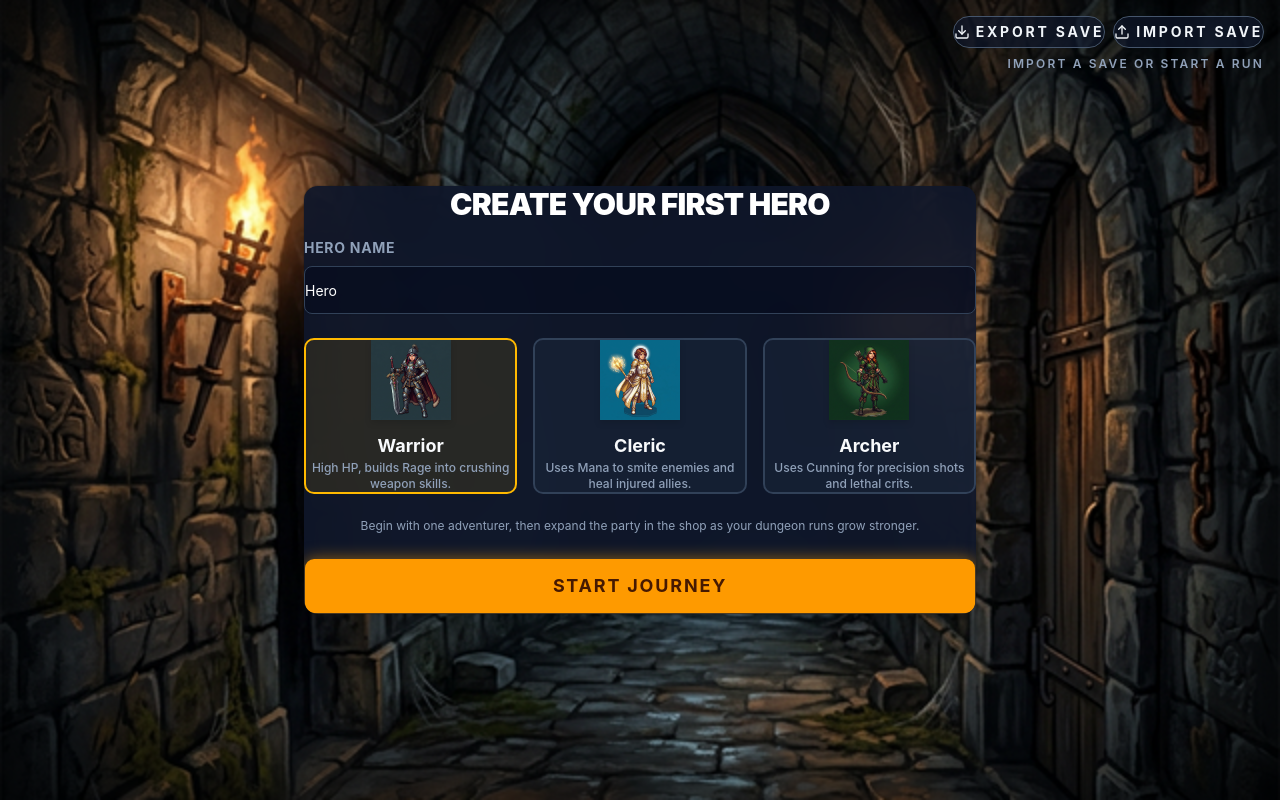
Test: App integration › exports the current run from the save controls
Replace the text in the field labelled "Hero Name" with "Ayla": (640, 290) x1=304 y1=266 x2=976 y2=314
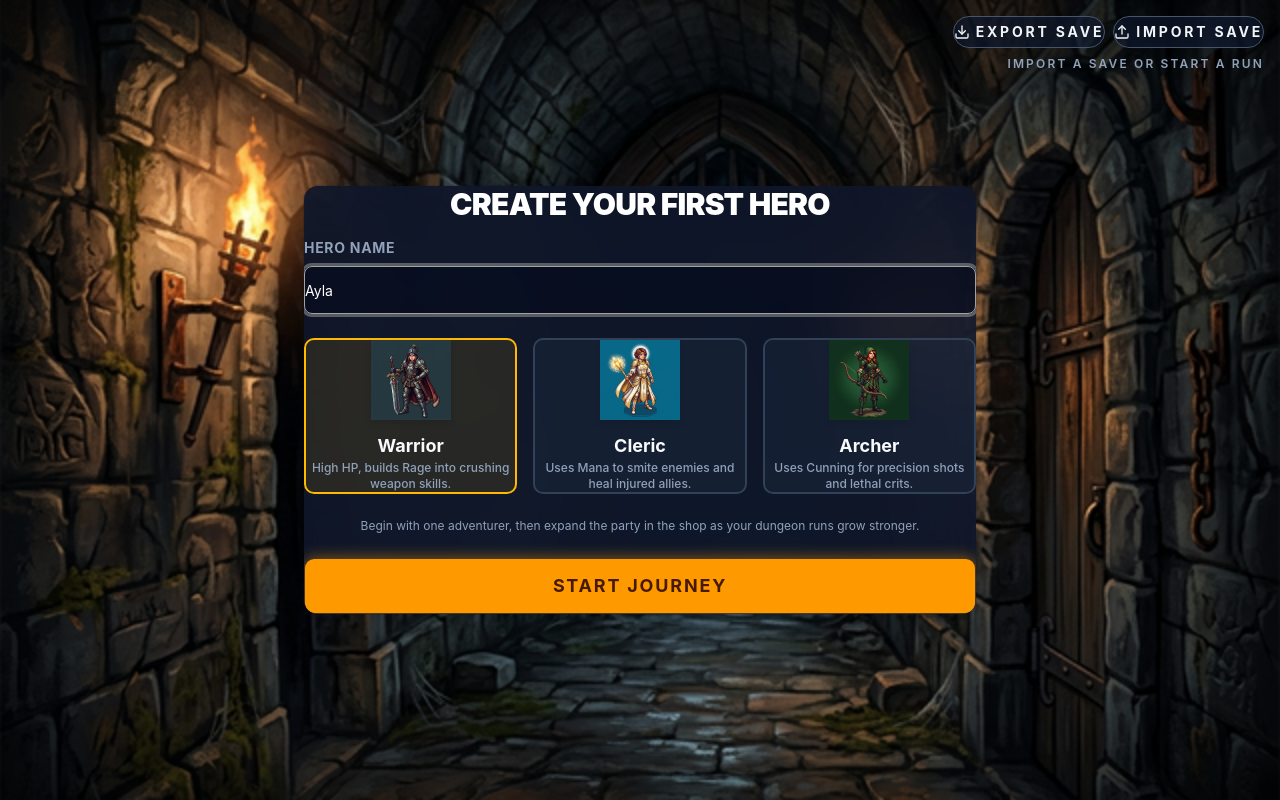
Click the button "Warrior High HP, builds Rage into crushing weapon skills.": (411, 416) x1=304 y1=338 x2=517 y2=494
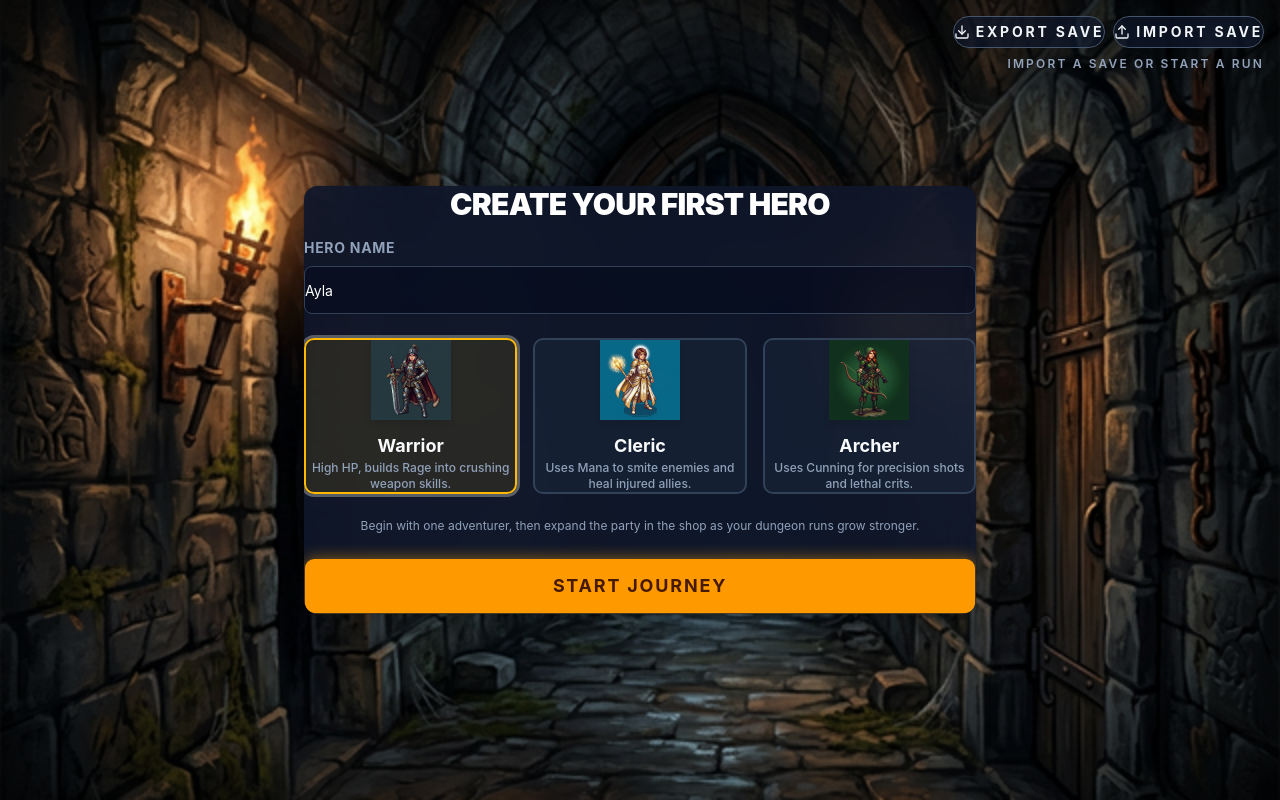
Click the button "Start Journey": (640, 586) x1=304 y1=558 x2=976 y2=614
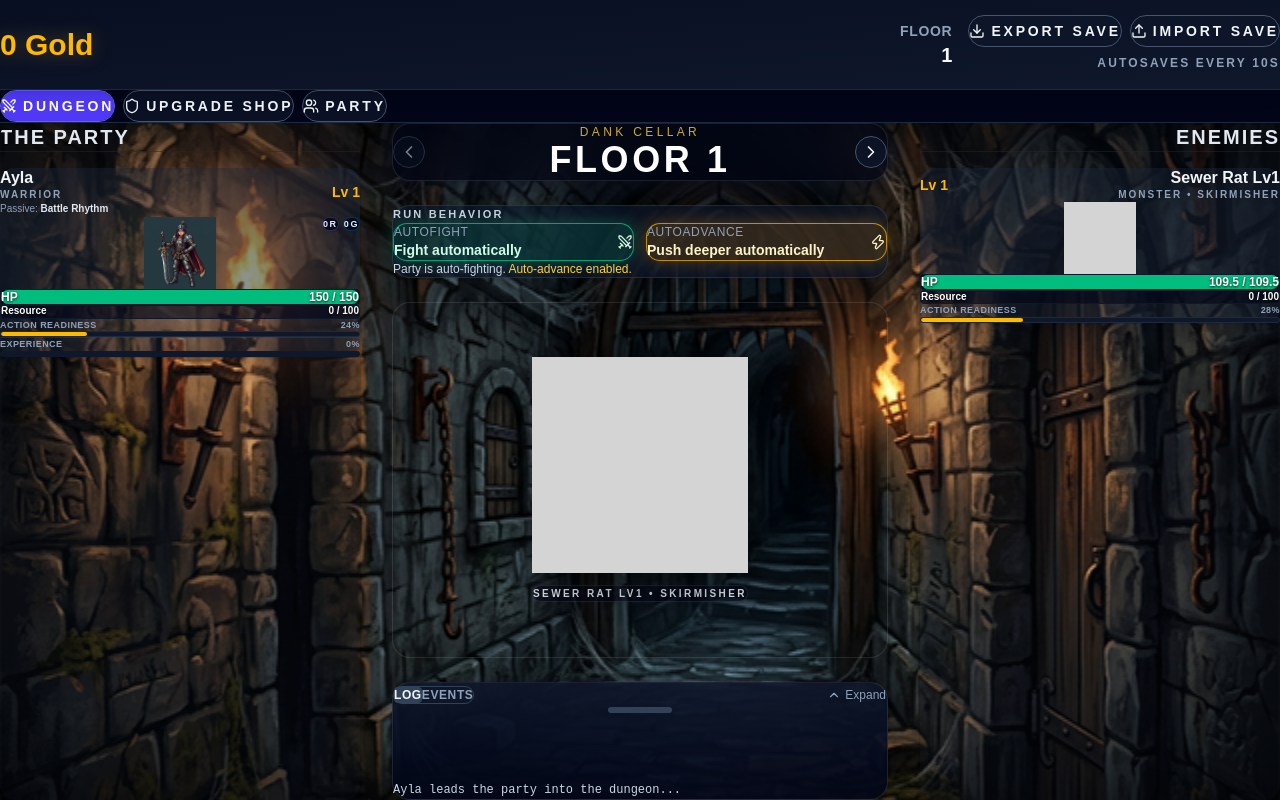
Click the button "Export Save": (1045, 30) x1=968 y1=14 x2=1122 y2=46
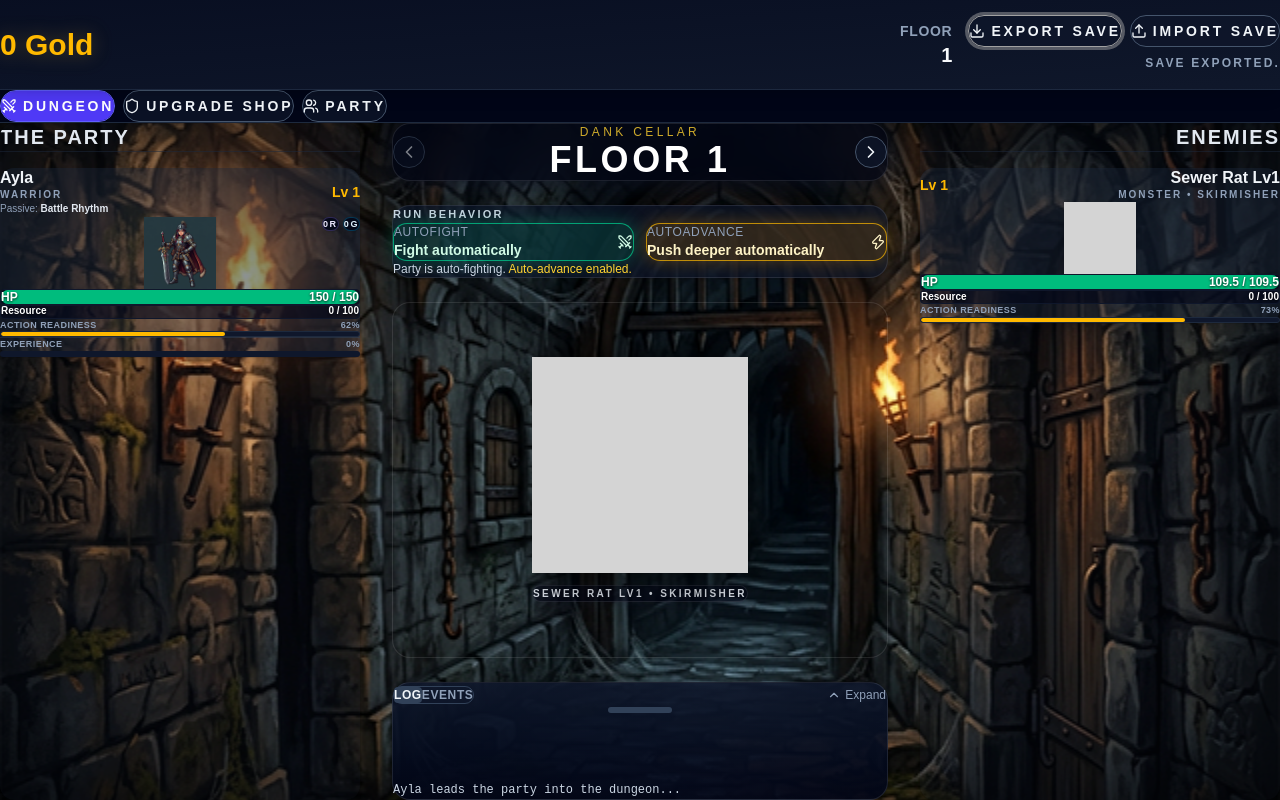
Now the message shows "Save exported", box x1=1145 y1=56 x2=1279 y2=70
